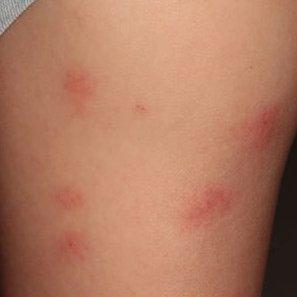Fleas: (171, 174, 239, 238), (246, 100, 284, 152), (54, 228, 89, 264), (53, 182, 86, 215), (64, 70, 94, 103)
